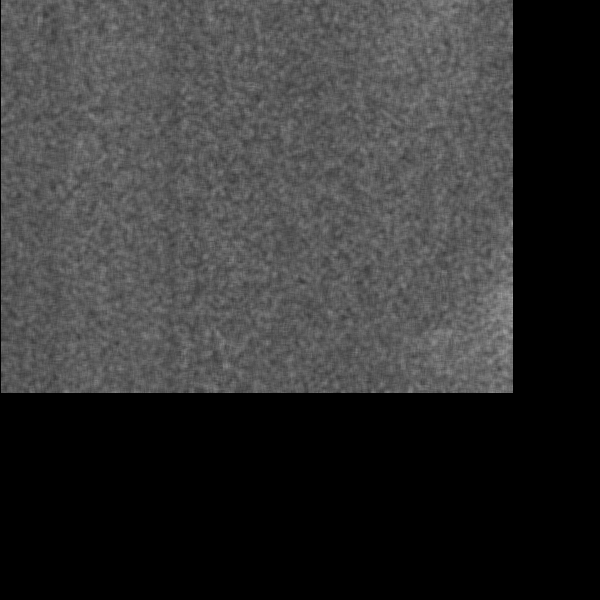spark: (226, 343, 259, 396), (42, 199, 65, 240)
